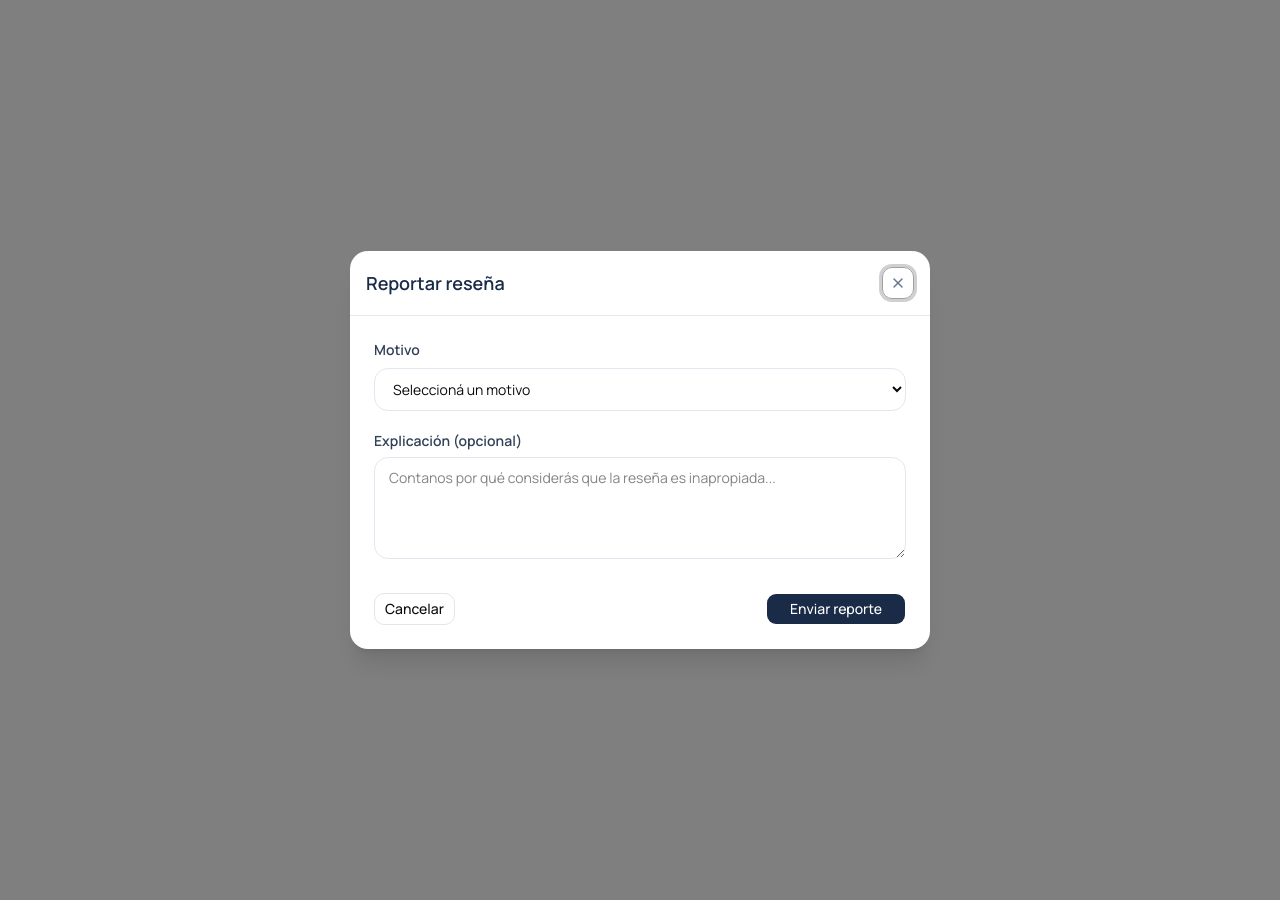
Test: ReportReviewModal › should submit a selected reason and explanation and show confirmation
This screenshot has width=1280, height=900.
Select "Datos personales" in the dropdown labelled "Motivo" at (640, 390), box [374,368,906,411]
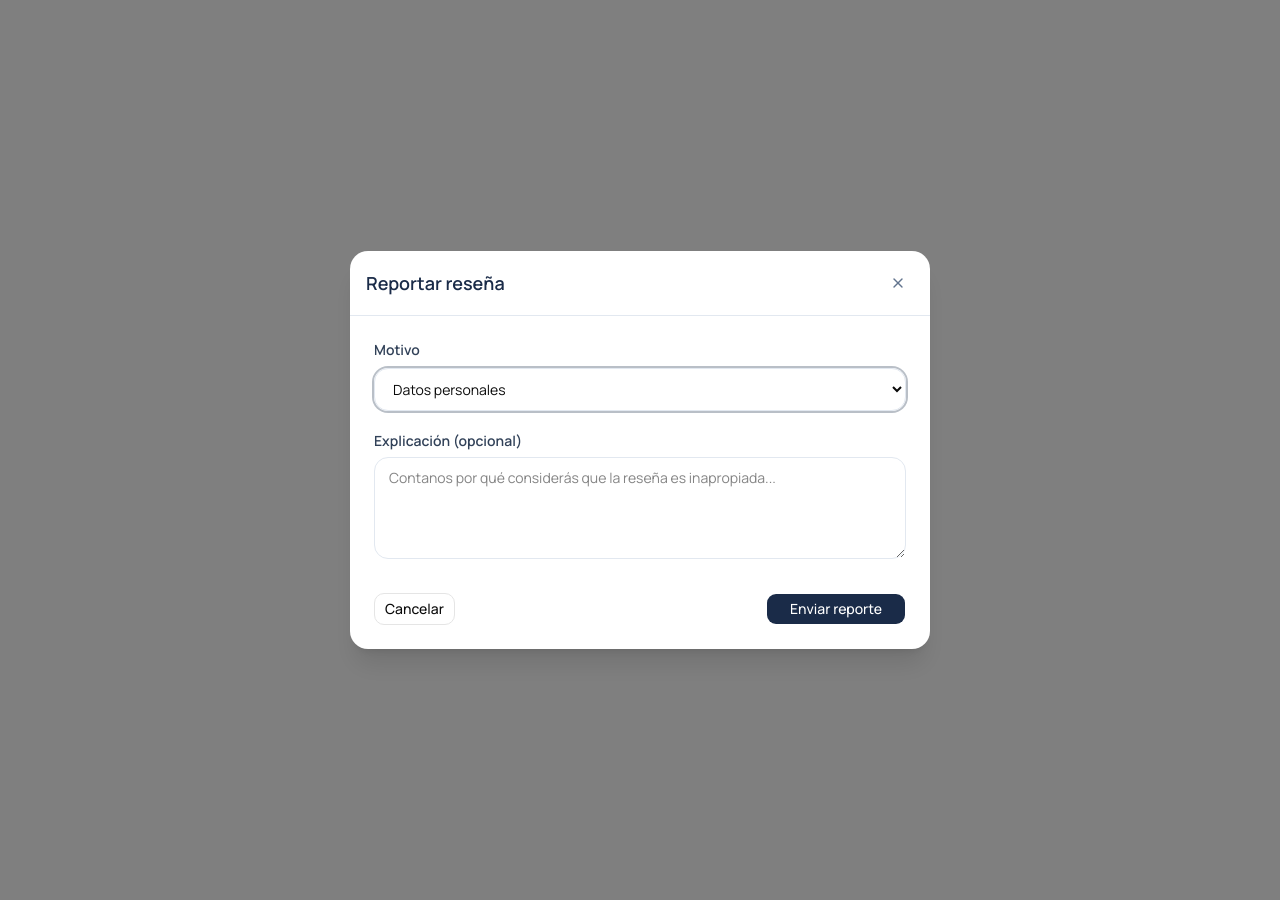
Type "Publica mi teléfono sin mi autorización." into the text box labelled "Explicación (opcional)" at (640, 508), box [374,457,906,559]
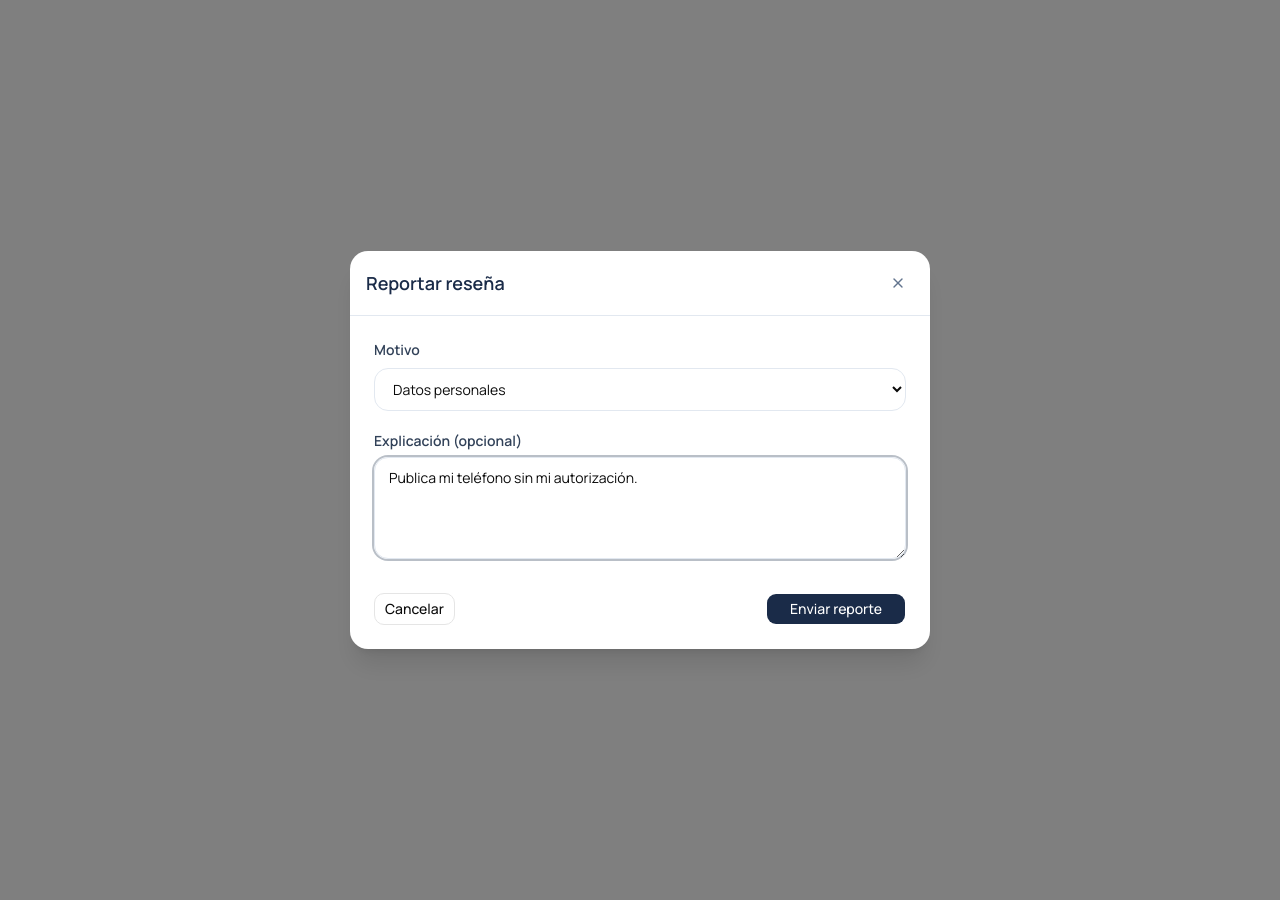
Click the button "Enviar reporte" at (836, 609), box [766,593,906,625]
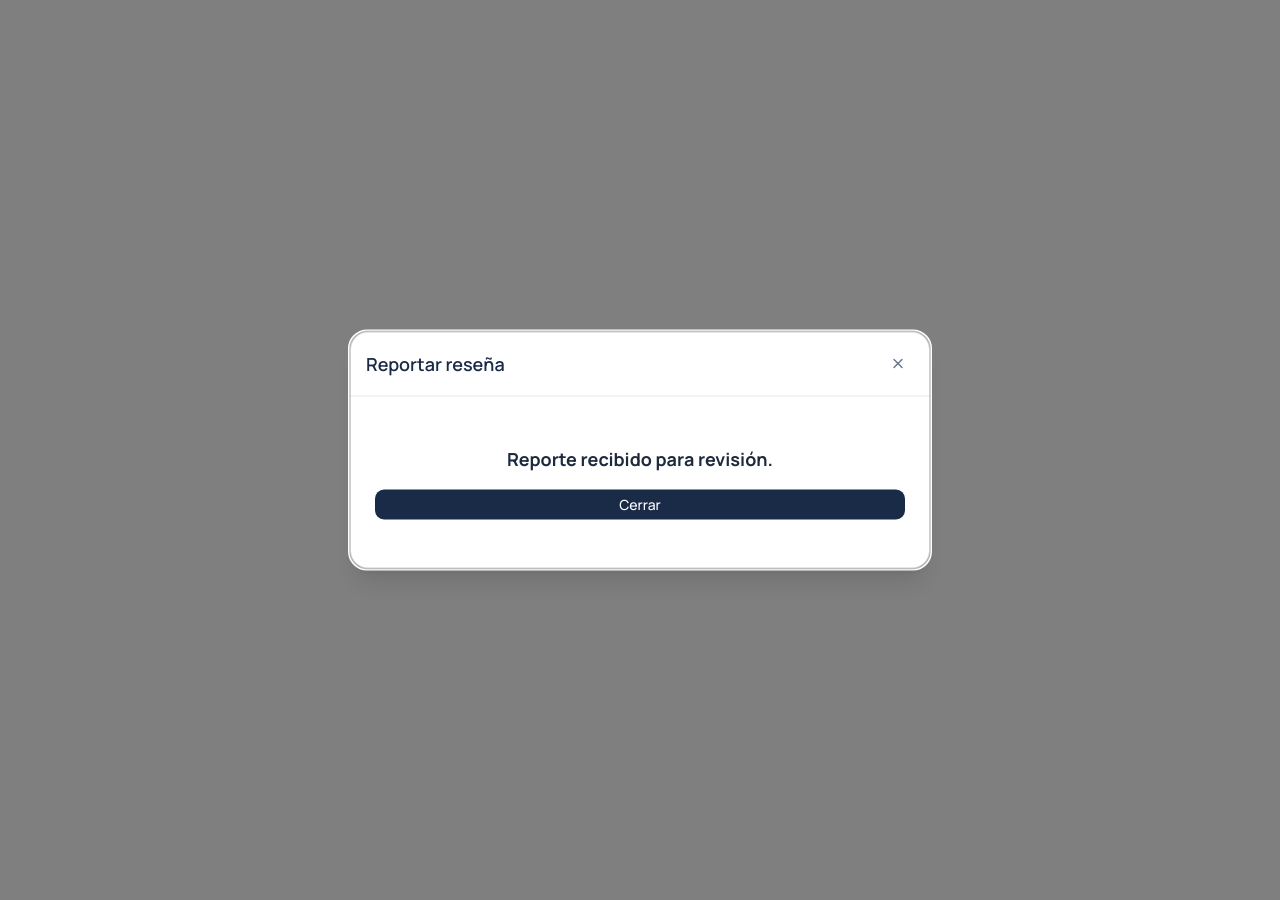
Expected: the message shows "Reporte recibido para revisión.", [507,446,773,470]
